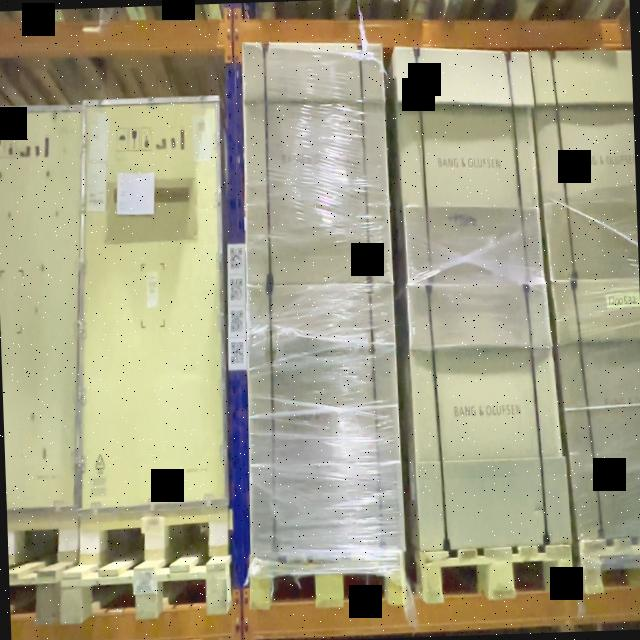box: (78, 96, 228, 516), (243, 283, 401, 557), (408, 282, 568, 552), (244, 41, 390, 283), (397, 52, 547, 283)
